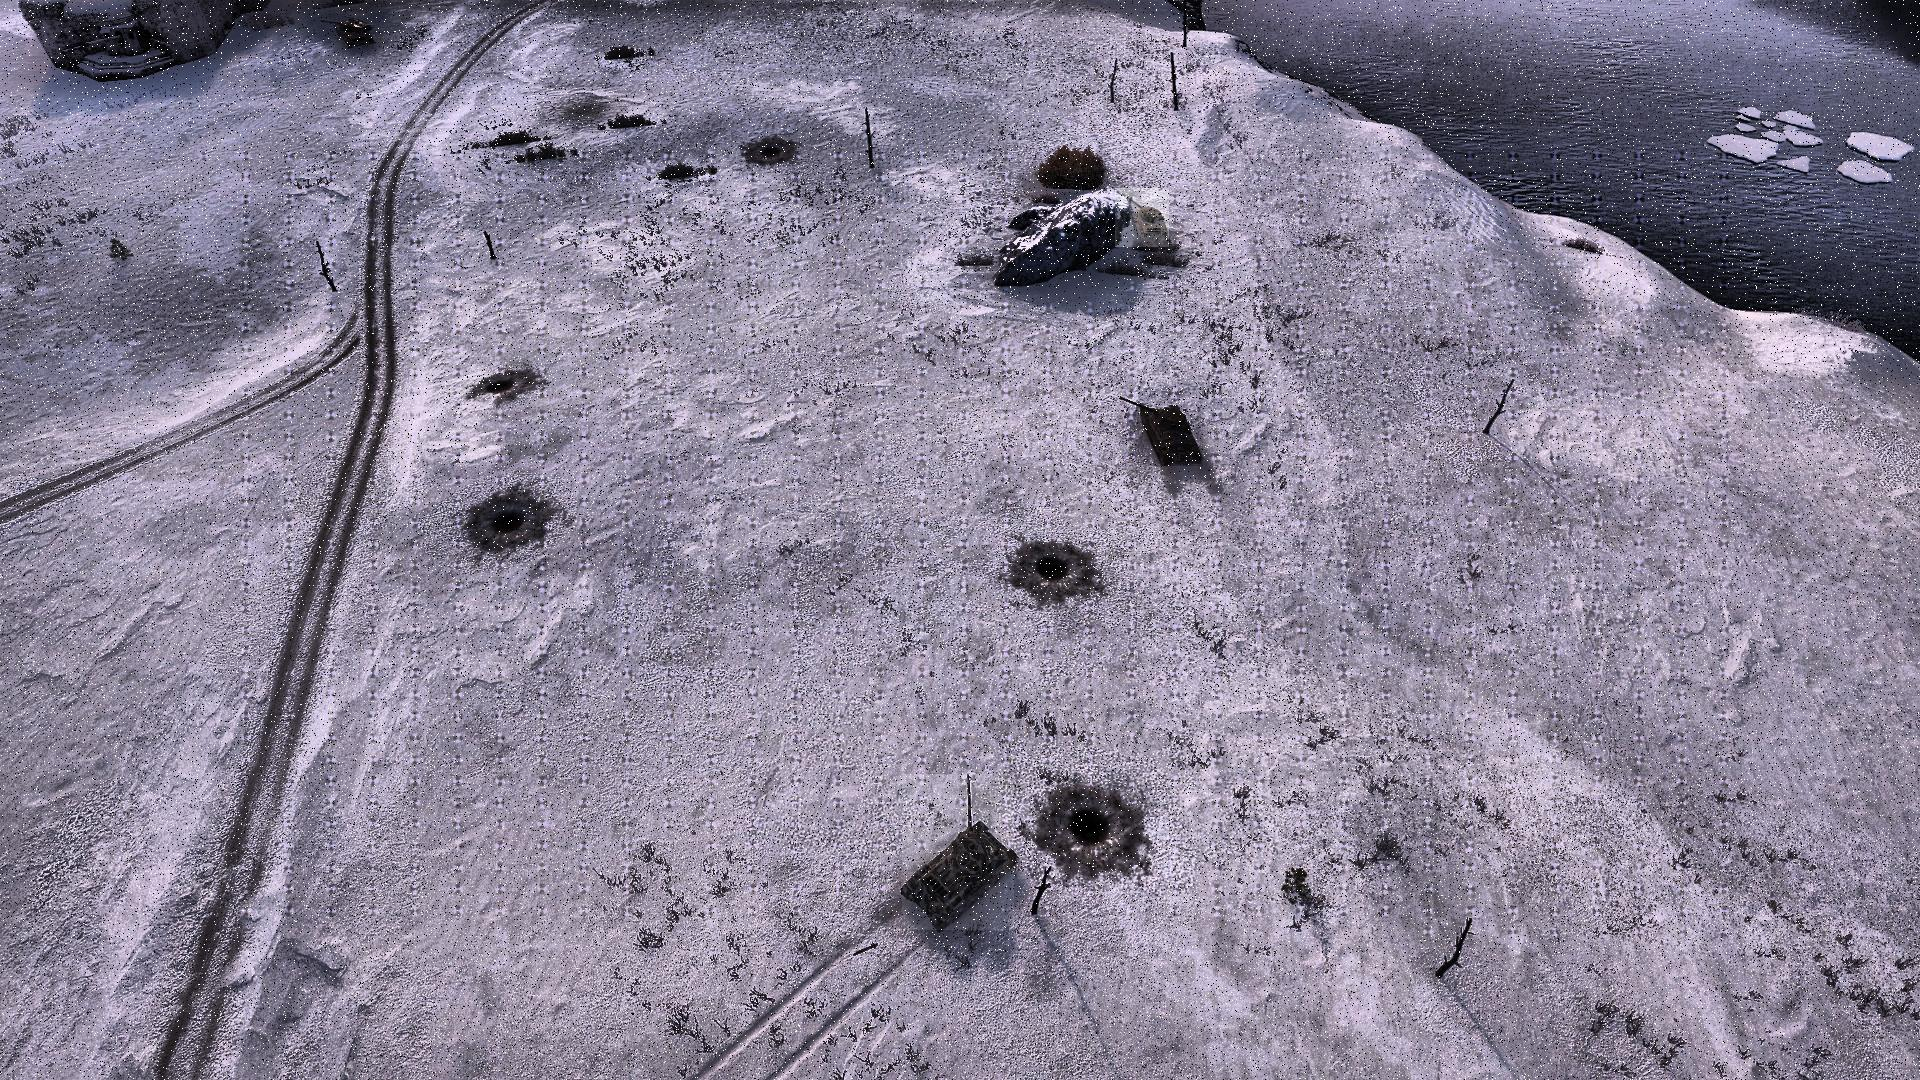military-vehicle: (902, 774, 1014, 931), (1121, 392, 1204, 467), (1116, 189, 1170, 248)
